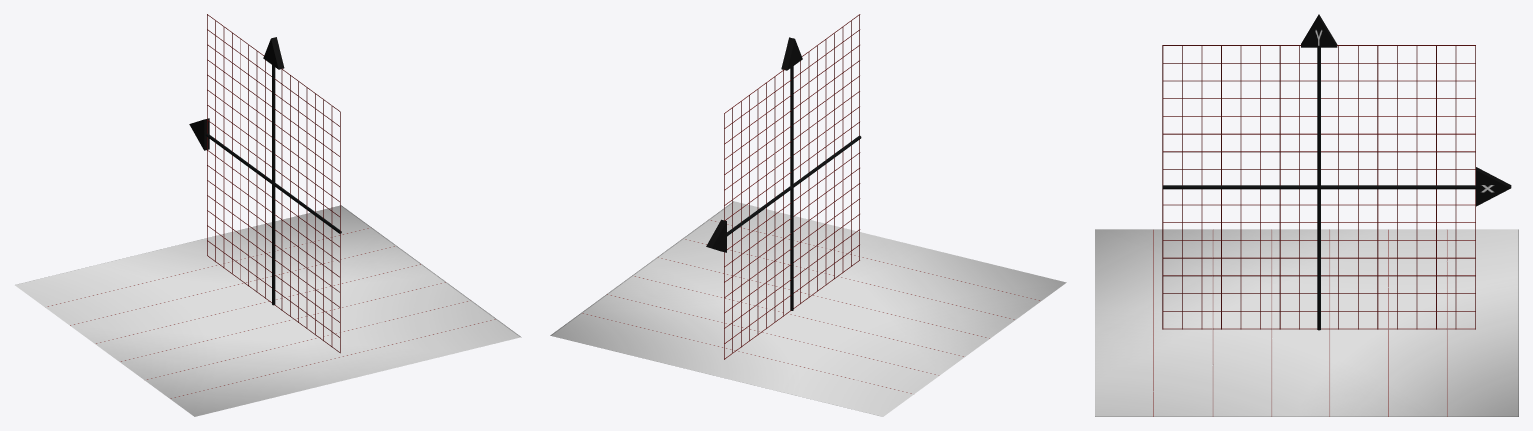
The picture shows the model from 3 angles, left to right: view 1: azimuth 30°, elevation 25°; view 2: azimuth 150°, elevation 25°; view 3: azimuth 270°, elevation 25°; orthographic projection. The views are drawn at different scales.
Visible parts, largest first — view 1: parabola:plane:pPlane1, parabola:pCylinder37, parabola:pCylinder36, parabola:pCylinder29, parabola:pCylinder19, parabola:pCylinder23, parabola:pCylinder26; view 2: parabola:plane:pPlane1, parabola:pCylinder37, parabola:pCylinder36, parabola:pCylinder23, parabola:pCylinder22, parabola:pCylinder25; view 3: parabola:plane:pPlane1, parabola:pCylinder36, parabola:pCylinder37, parabola:nueva_flecha_x:polySurface1, parabola:Nueva_flecha_y:polySurface1, parabola:pCylinder14, parabola:pCylinder7, parabola:pCylinder3, parabola:pCylinder10, parabola:pCylinder6, parabola:pCylinder17, parabola:pCylinder13 (+7 smaller).
Boxes of the visible parts, x1,y1,x2,y2 form: parabola:plane:pPlane1: (15,205,521,416); parabola:pCylinder37: (272,65,275,305); parabola:pCylinder36: (205,133,341,233); parabola:pCylinder29: (256,51,257,292); parabola:pCylinder19: (331,106,332,346); parabola:pCylinder23: (306,88,307,328); parabola:pCylinder26: (281,69,282,310); parabola:plane:pPlane1: (550,201,1066,416); parabola:pCylinder37: (790,66,793,310); parabola:pCylinder36: (727,136,861,236); parabola:pCylinder23: (825,39,826,284); parabola:pCylinder22: (842,27,843,272); parabola:pCylinder25: (808,52,809,297); parabola:plane:pPlane1: (1095,229,1518,416); parabola:pCylinder36: (1162,185,1475,189); parabola:pCylinder37: (1317,47,1320,330); parabola:nueva_flecha_x:polySurface1: (1476,167,1511,206); parabola:Nueva_flecha_y:polySurface1: (1301,14,1337,47); parabola:pCylinder14: (1163,275,1475,276); parabola:pCylinder7: (1163,151,1475,152); parabola:pCylinder3: (1163,80,1475,81); parabola:pCylinder10: (1162,204,1475,205); parabola:pCylinder6: (1163,133,1475,134); parabola:pCylinder17: (1162,328,1475,329); parabola:pCylinder13: (1162,257,1475,258).
Bounding box in the file's own units: 56.75 × 44.29 × 54.19.
